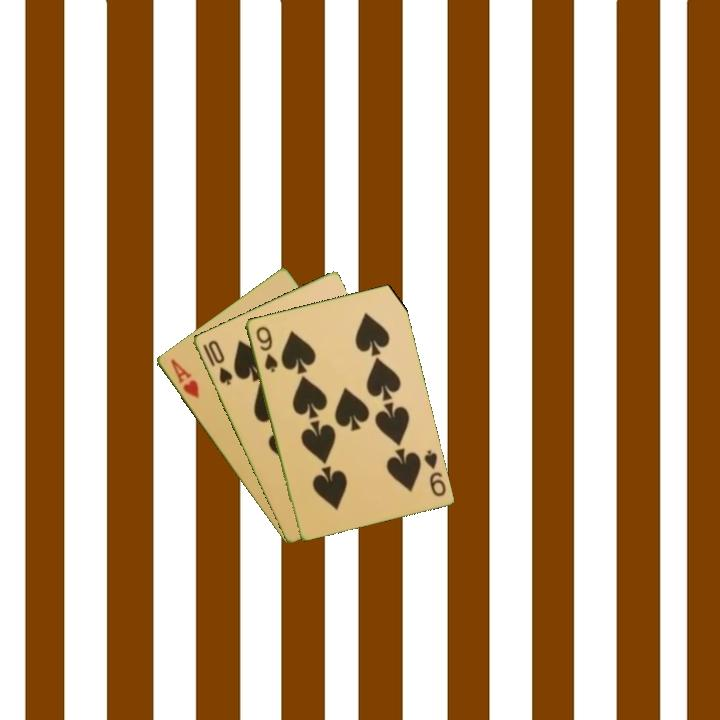10s: (199, 336, 235, 388)
9s: (252, 322, 281, 375), (420, 446, 449, 499)
Ah: (166, 355, 202, 401)
